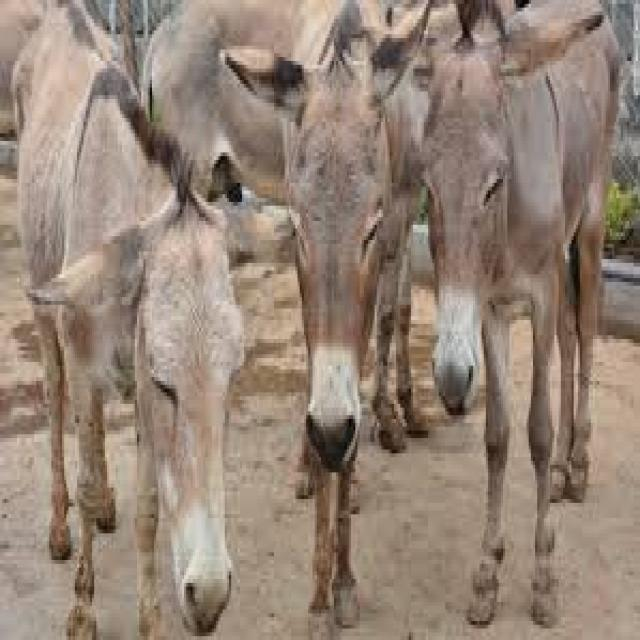Donkey: (14, 6, 252, 640), (221, 0, 439, 640), (420, 0, 635, 640)
